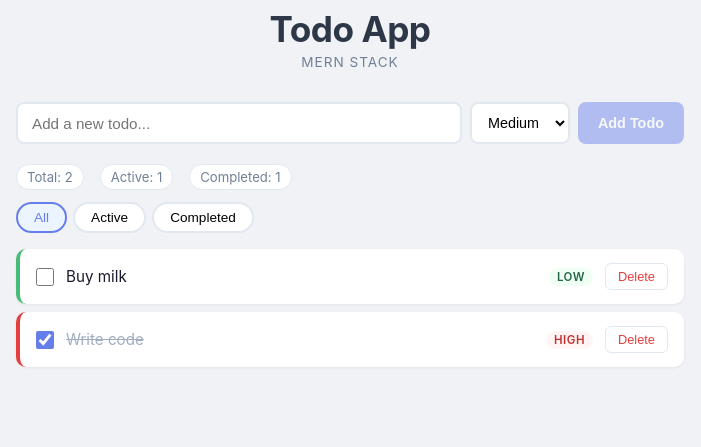
App › adds a new todo to the list
The width and height of the screenshot is (701, 447).
Expected: the text "Buy milk" is shown, [66,267,127,286]
Type "New Task" into the field with placeholder "Add a new todo...". click: (239, 123)
box: [16,102,462,144]
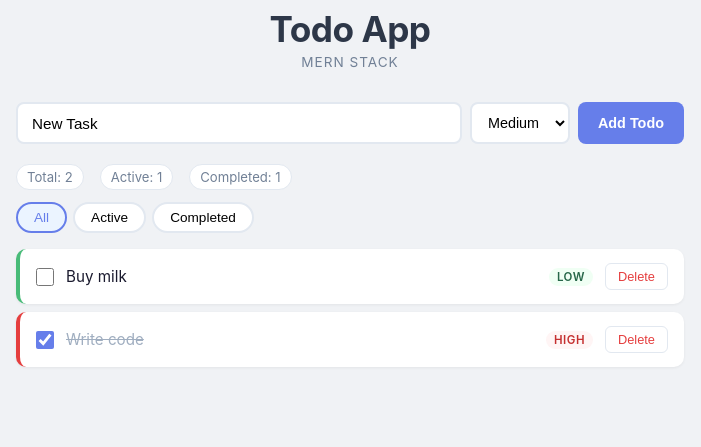
Click the button "Add Todo". click: click(631, 123)
box: [578,102,684,144]
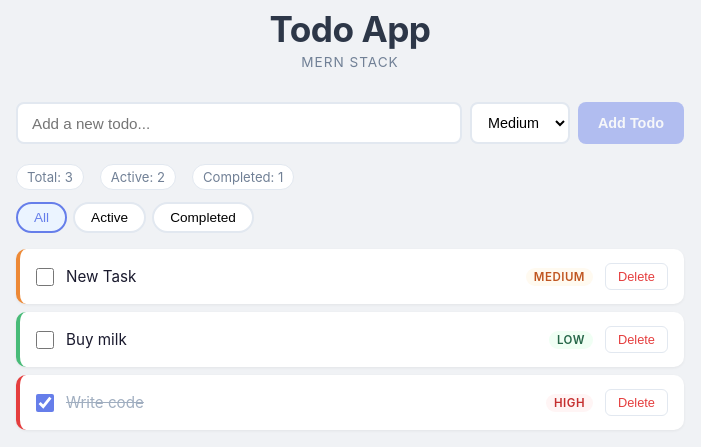
Expected: the text "New Task" is shown, [66,267,136,286]
